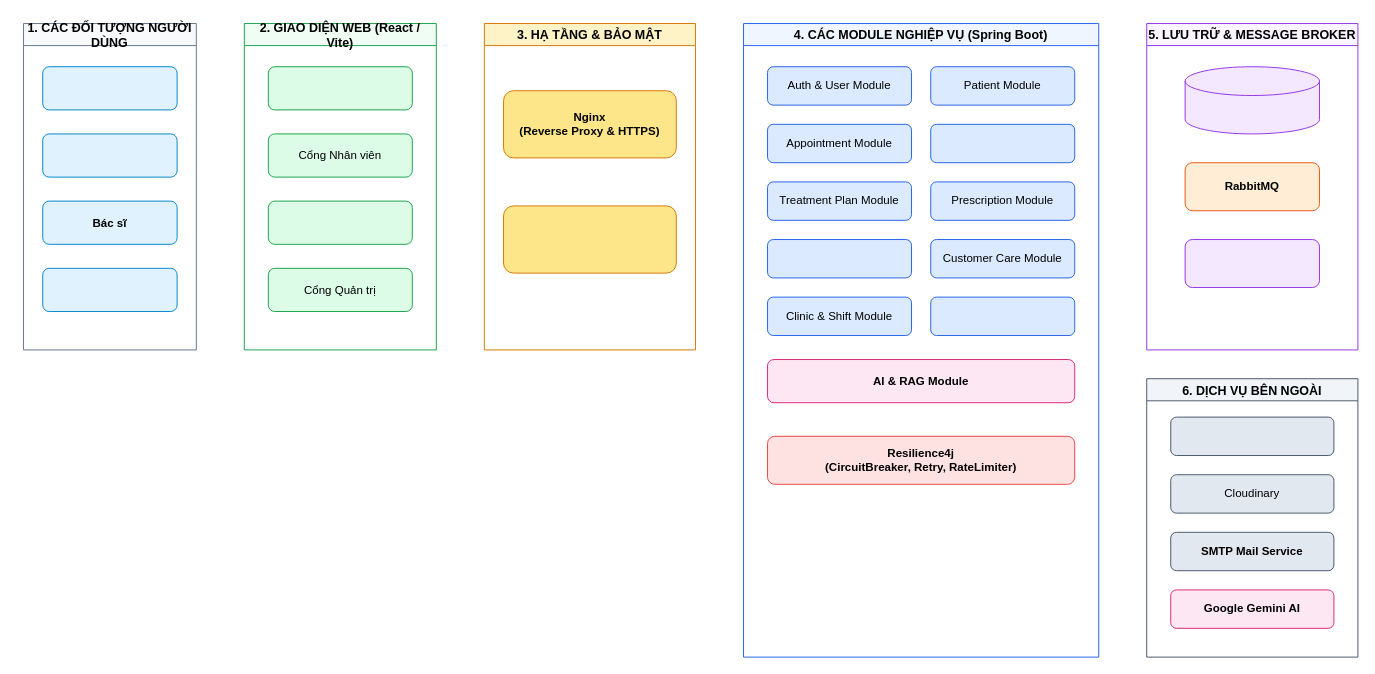
Image size: 1375x674. Some labels were removed from this diagram. The centre of each missing label's shape, as x and y in pixels:
Billing & Payment Module: the point at 839,258
Bệnh nhân: the point at 109,88
Caffeine Cache: the point at 1252,263
Casso (VietQR Webhook): the point at 1252,436
Cổng Bác sĩ: the point at 339,222
Cổng Bệnh nhân: the point at 339,88
Medical Record (EMR): the point at 1002,143
Nhân viên: the point at 109,155
Notification & Mail Module: the point at 1002,316
PostgreSQL: the point at 1252,100
Quản trị viên: the point at 109,289
Spring Security (JWT Filter & CORS): the point at 589,239
